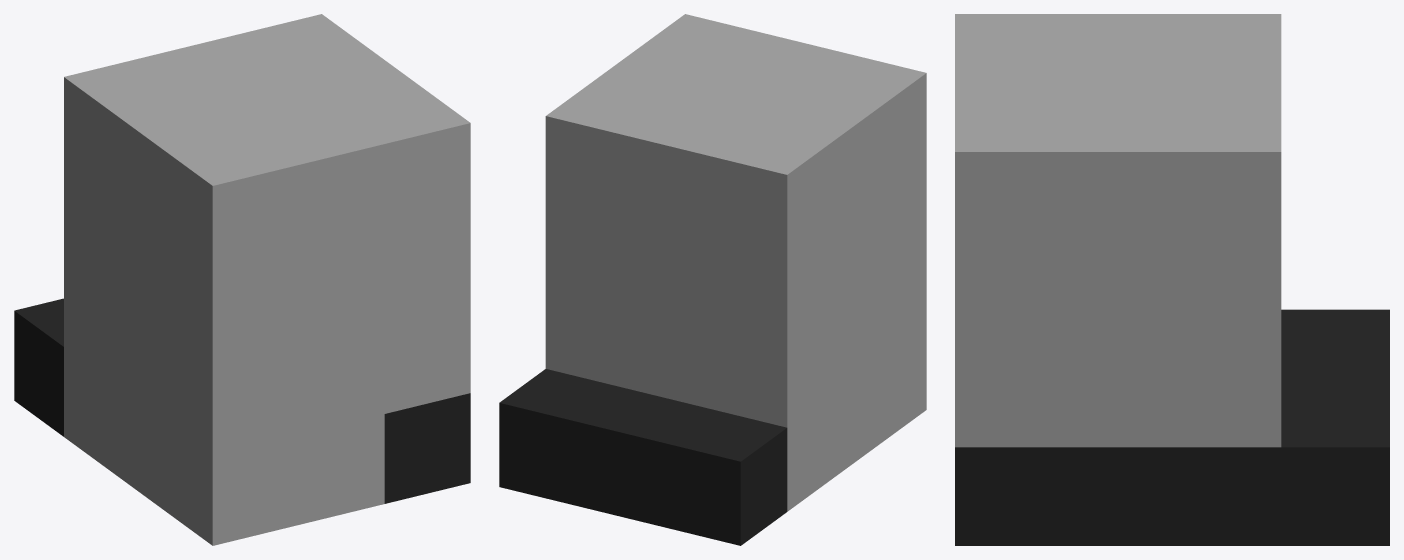
The model's file is Robot_vox-1-20.obj.
The picture shows the model from 3 angles, left to right: view 1: azimuth 30°, elevation 25°; view 2: azimuth 150°, elevation 25°; view 3: azimuth 270°, elevation 25°; orthographic projection. The views are drawn at different scales.
Bounding box in the file's own units: 0.3 × 0.4 × 0.4.
Materials: 1 (1 with a texture image).
